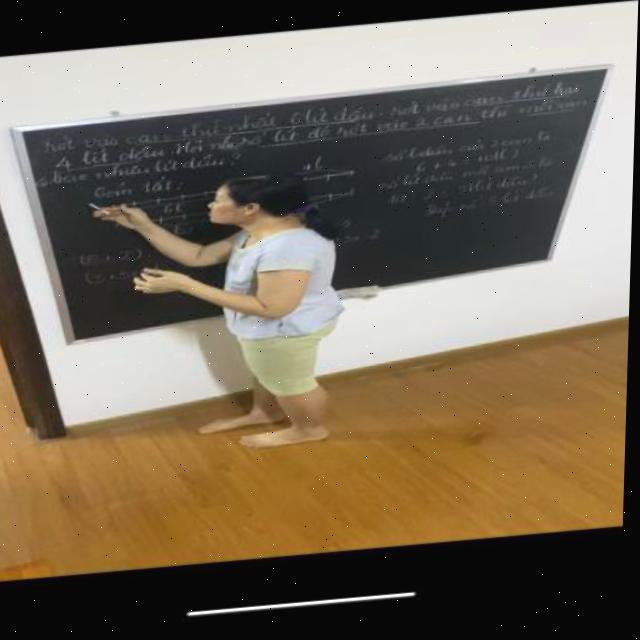cigarette: (88, 202, 112, 219)
